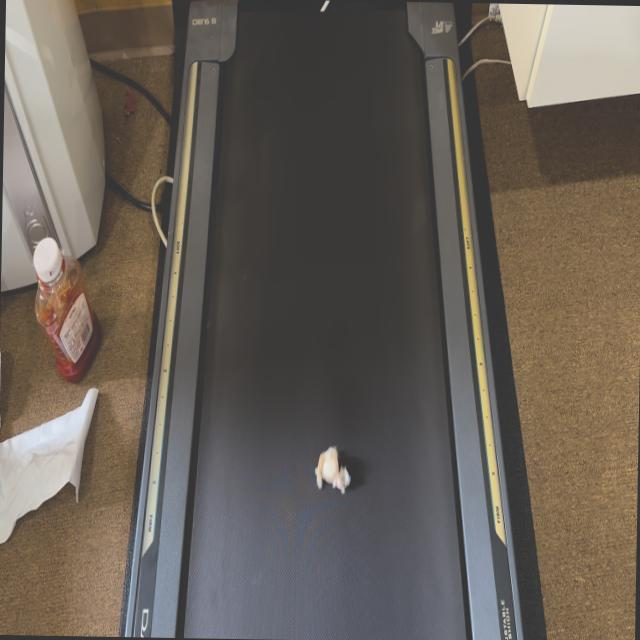Trash: (312, 436, 350, 496)
